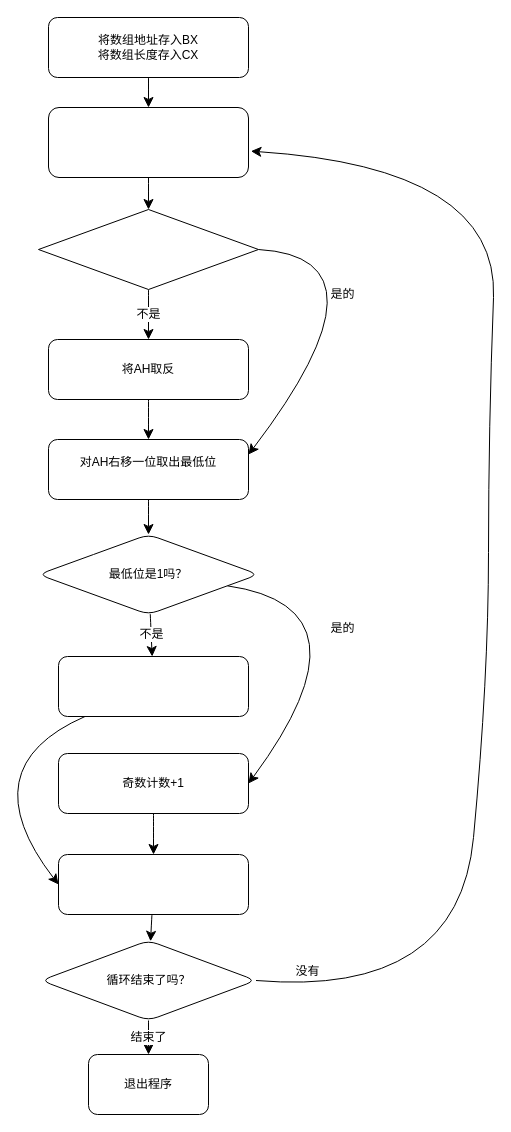
This 511x1132 diagram has some shape labels left out. Here are the shapes that lost their labels. From the top down, the centre of each, then its label:
the point at 148,142: 将BX指向的内存读取到AH
the point at 148,249: AH是正数吗？
the point at 153,686: 偶数计数+1
the point at 153,884: 将BX指向下一位
